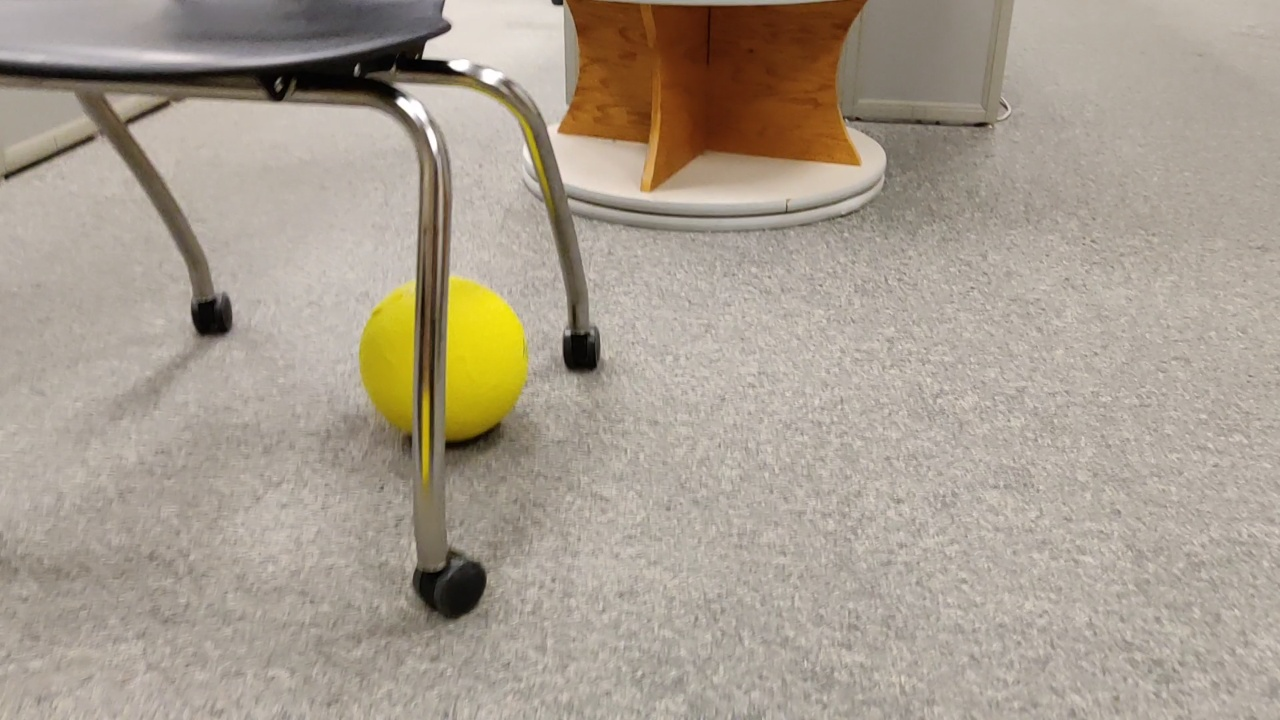Ball: (361, 278, 523, 438)
